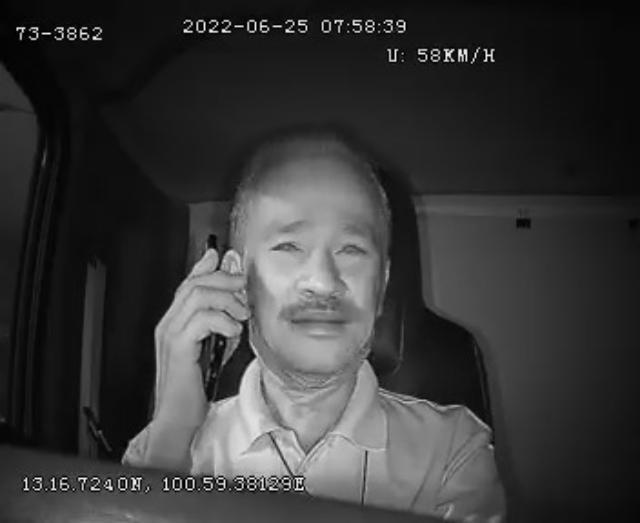PhoneUse: (196, 228, 234, 406)
SafeDriving: (328, 228, 374, 266), (264, 226, 308, 261)
